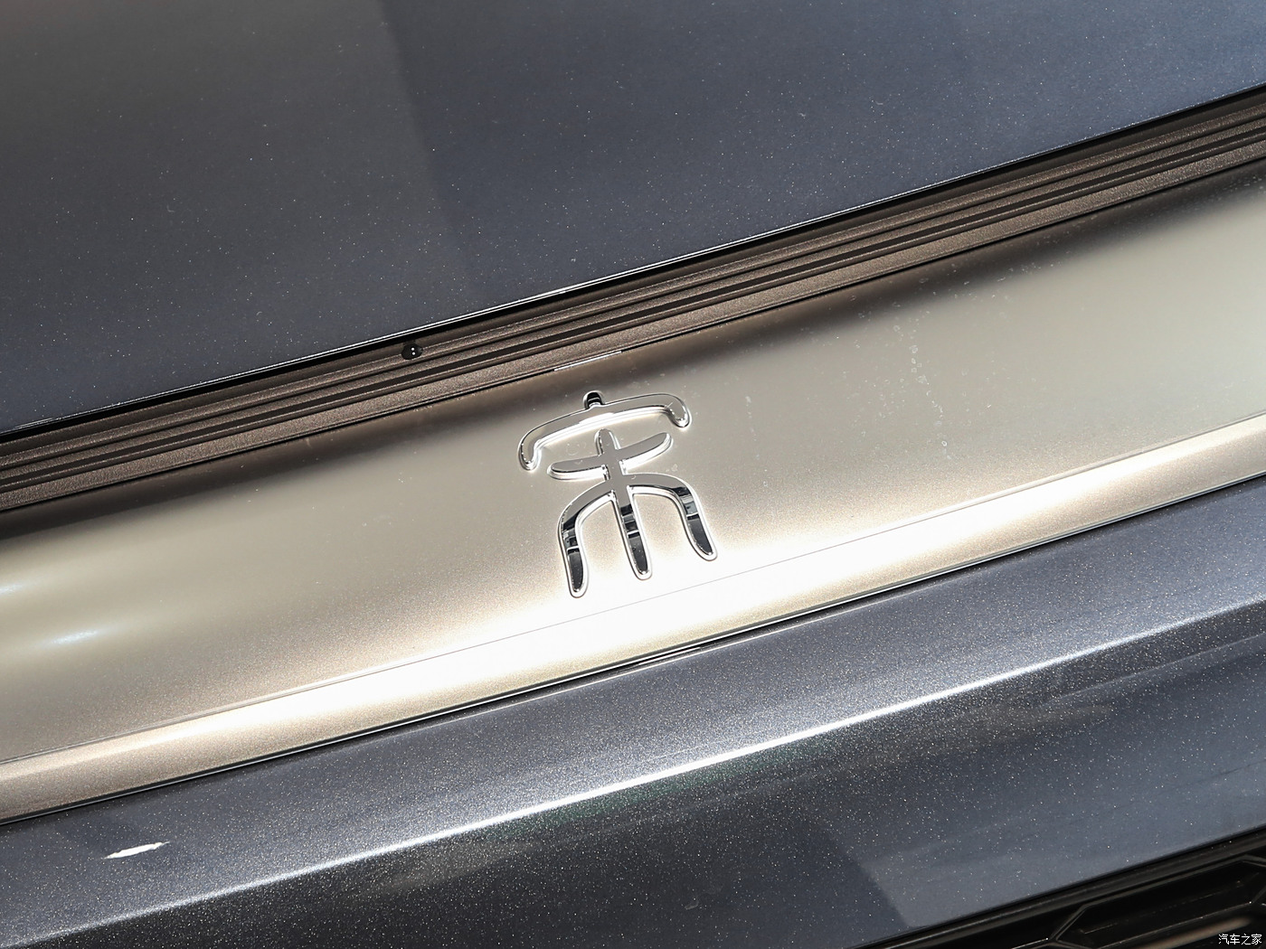BYD Song: (519, 391, 717, 597)
